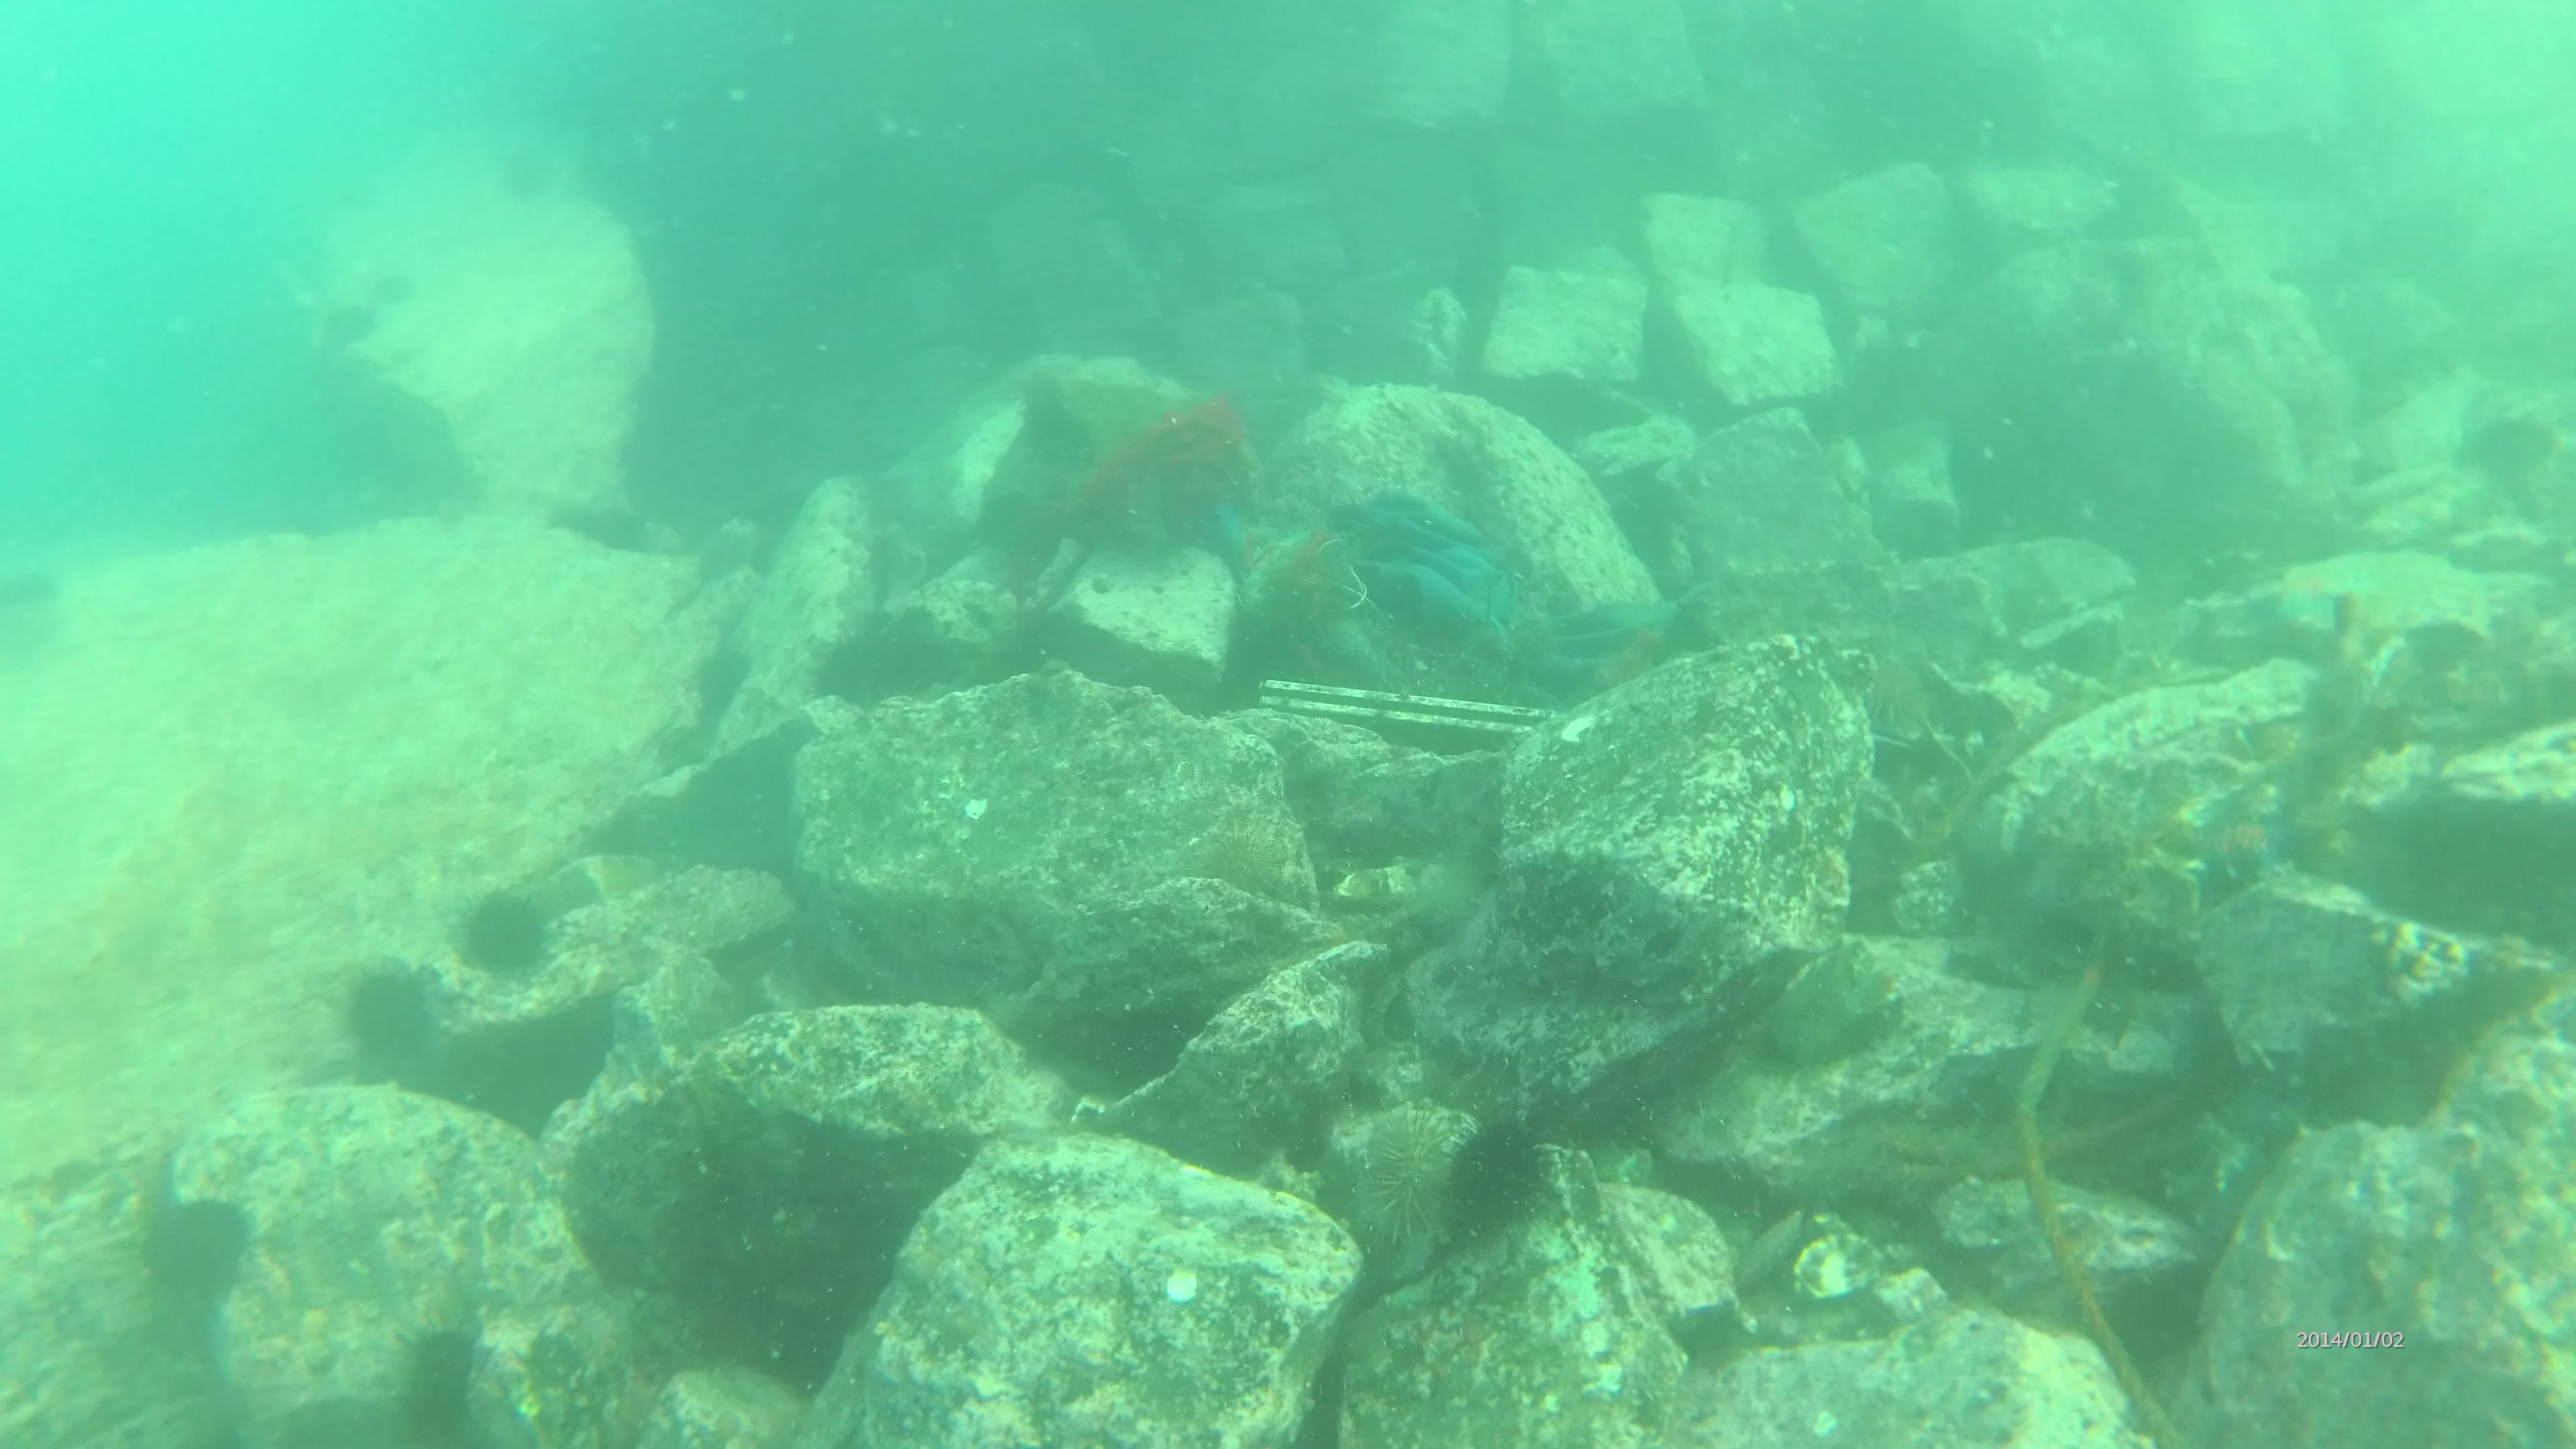echinus: (1445, 1104, 1562, 1240), (1368, 1095, 1463, 1240), (140, 1194, 257, 1302), (1200, 819, 1306, 918), (453, 883, 557, 978), (405, 1322, 497, 1422), (349, 961, 439, 1060)
starfish: (2197, 801, 2302, 885)
